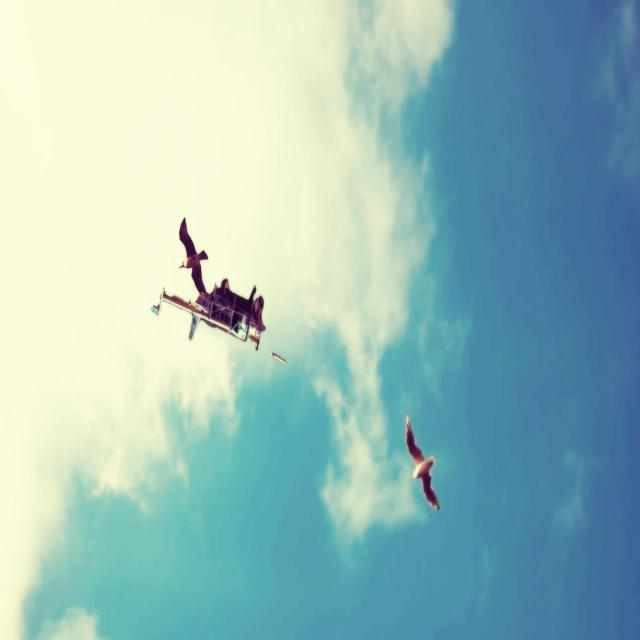airplane: (150, 278, 266, 365)
